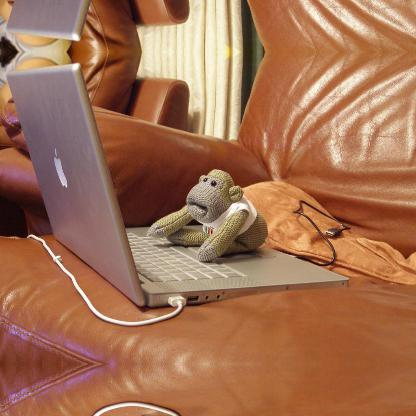Monkey: (148, 167, 268, 261)
